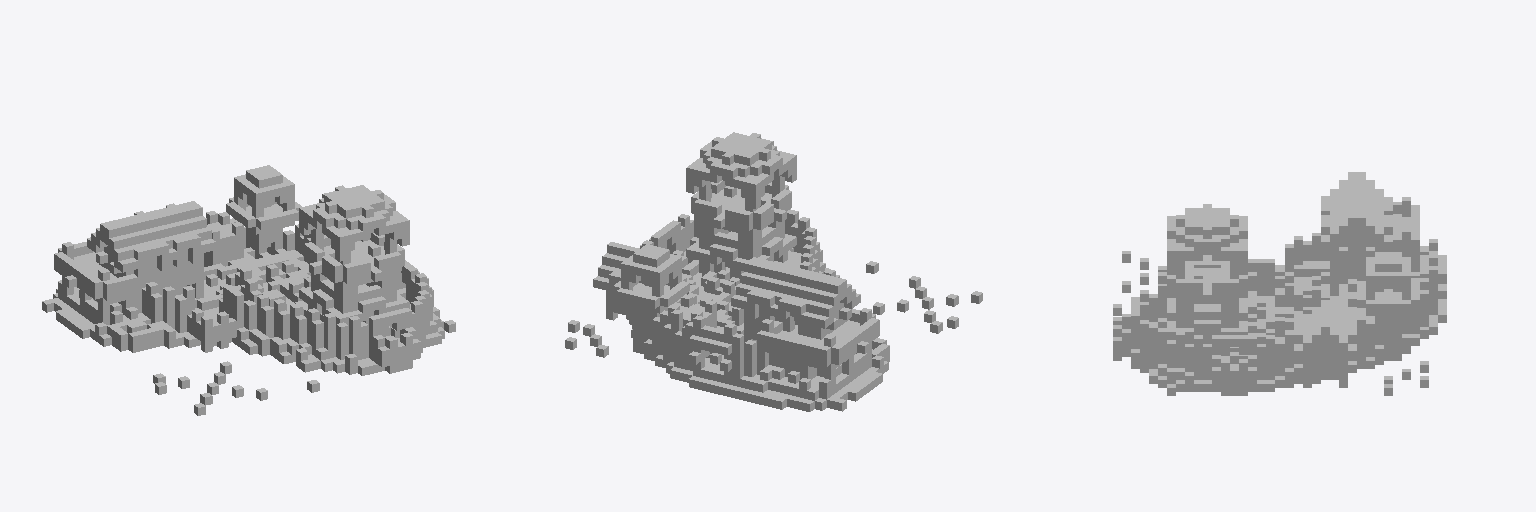
Rendered from base_plate5.obj.
The picture shows the model from 3 angles: view 1: azimuth 30°, elevation 25°; view 2: azimuth 150°, elevation 25°; view 3: azimuth 270°, elevation 25°; orthographic projection.
Parts seen in each view (by area): view 1: base_plate5; view 2: base_plate5; view 3: base_plate5.
Boxes of the visible parts, <box> form: base_plate5: <box>42,165,455,415</box>; base_plate5: <box>565,132,982,411</box>; base_plate5: <box>1113,172,1446,395</box>.
Bounding box in the file's own units: 37 × 17 × 37.